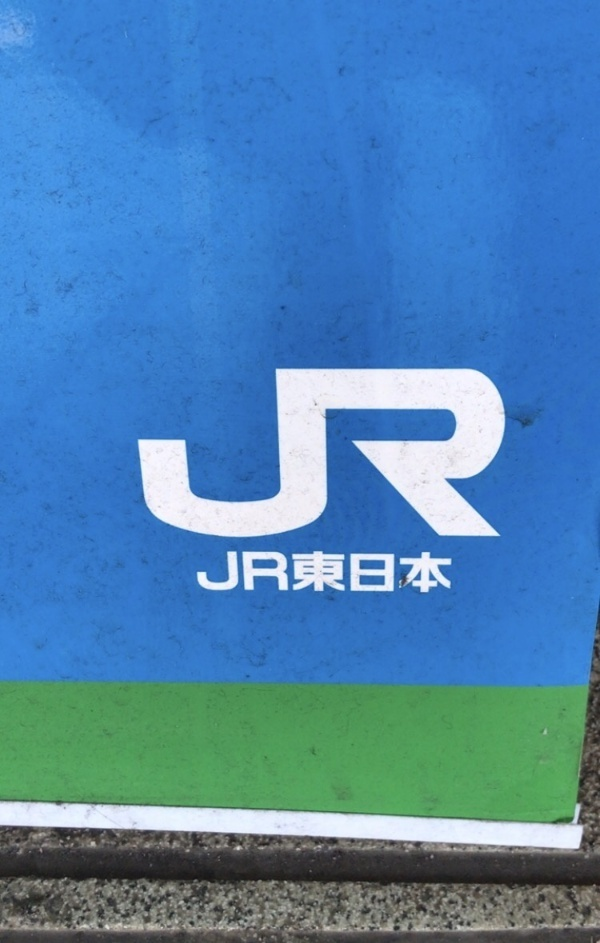text: (145, 365, 160, 547), (161, 365, 176, 547), (177, 365, 192, 547), (193, 365, 208, 547), (209, 365, 224, 547), (225, 365, 240, 547), (241, 365, 256, 547), (257, 365, 272, 547), (273, 365, 288, 547), (289, 365, 304, 547), (305, 365, 320, 547), (321, 365, 336, 547), (337, 365, 352, 547), (353, 365, 368, 547), (369, 365, 384, 547), (385, 365, 400, 547), (401, 365, 416, 547), (417, 365, 432, 547), (433, 365, 448, 547), (449, 365, 464, 547), (465, 365, 480, 547), (481, 365, 496, 547), (497, 365, 510, 547), (135, 365, 144, 547), (209, 547, 224, 599), (225, 547, 240, 599), (241, 547, 256, 599), (257, 547, 272, 599), (273, 547, 288, 599), (289, 547, 304, 599), (305, 547, 320, 599), (321, 547, 336, 599), (337, 547, 352, 599), (353, 547, 368, 599), (369, 547, 384, 599), (385, 547, 400, 599), (401, 547, 416, 599), (417, 547, 432, 599), (433, 547, 448, 599), (197, 547, 208, 599), (449, 547, 454, 599)
